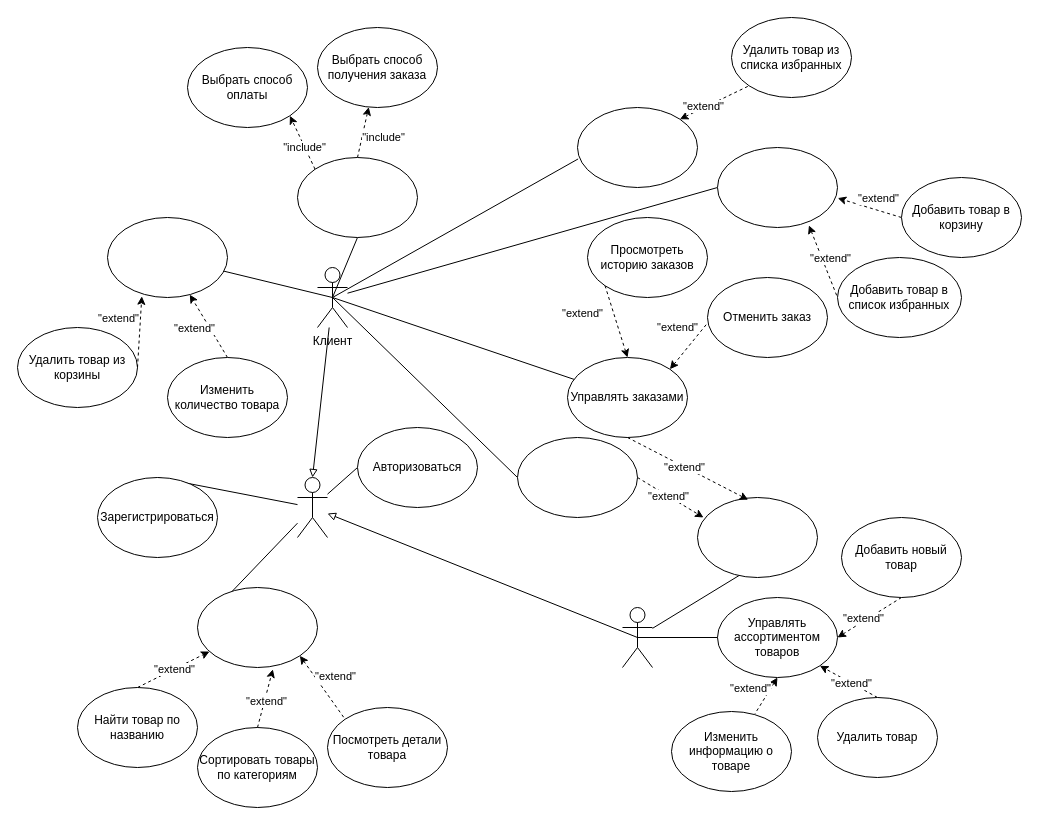
This 1039x825 diagram has some shape labels left out. The shapes that lost their labels are listed below. From the top down, each one's centre as x and y in pixels, then its label:
pixel 637 147: Управлять списком избранных товаров
pixel 357 197: Оформить заказ
pixel 777 187: Смотреть товары в каталоге
pixel 167 257: Управлять корзиной
pixel 577 477: Удалить личный кабинет
pixel 312 507: Неавторизированный пользователь
pixel 757 537: Посмотреть список пользователей
pixel 257 627: Найти товар в каталоге
pixel 637 637: Администратор
